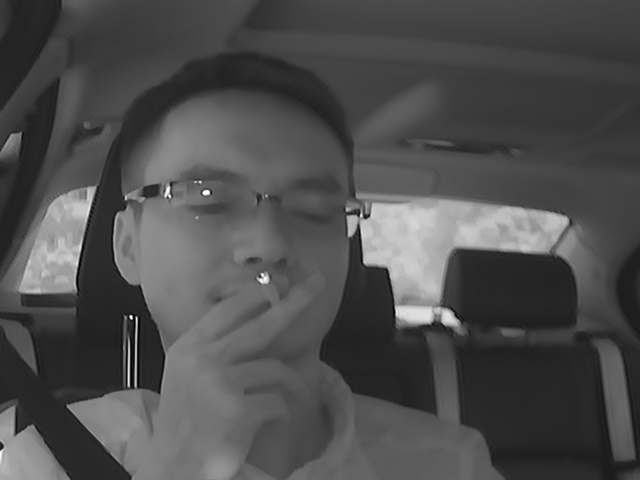hand: (173, 275, 312, 429)
